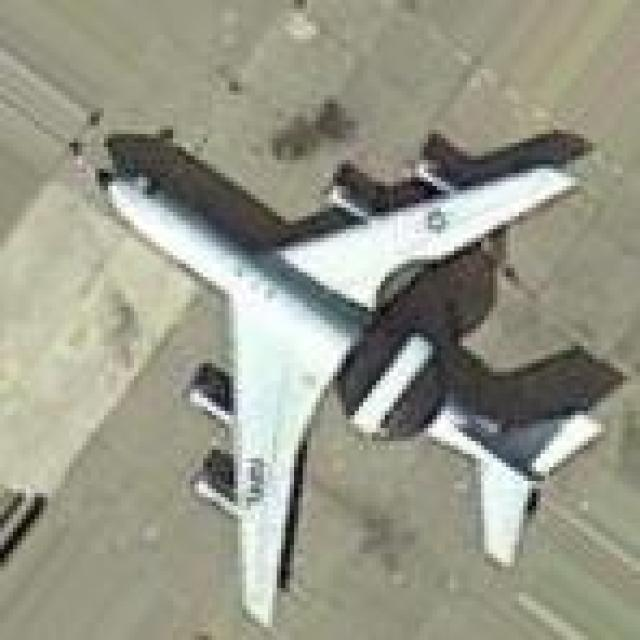E-3_TopDown: (82, 108, 614, 627)
